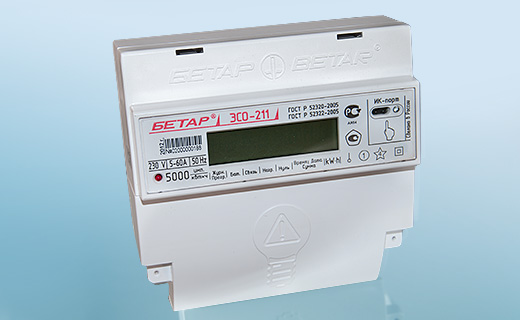counter: (115, 33, 423, 286)
counter_screen: (205, 115, 343, 168)
